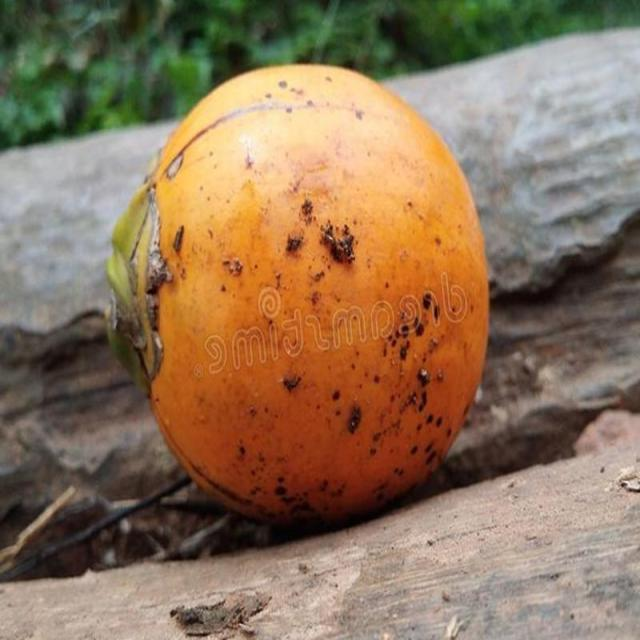good: (104, 64, 490, 535)
